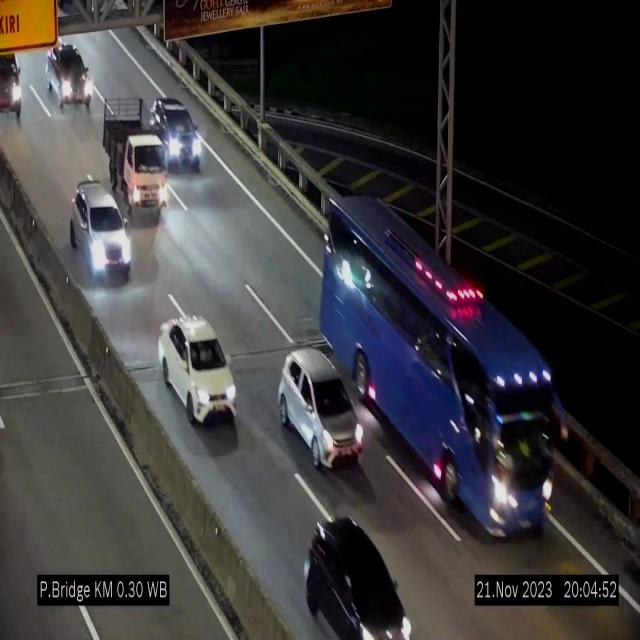Bus: (317, 190, 554, 535)
Car: (293, 518, 422, 640), (279, 348, 363, 468), (158, 316, 237, 424), (70, 184, 132, 281), (150, 97, 204, 170), (48, 41, 92, 110), (0, 49, 36, 123)
Truck: (104, 98, 170, 220)
